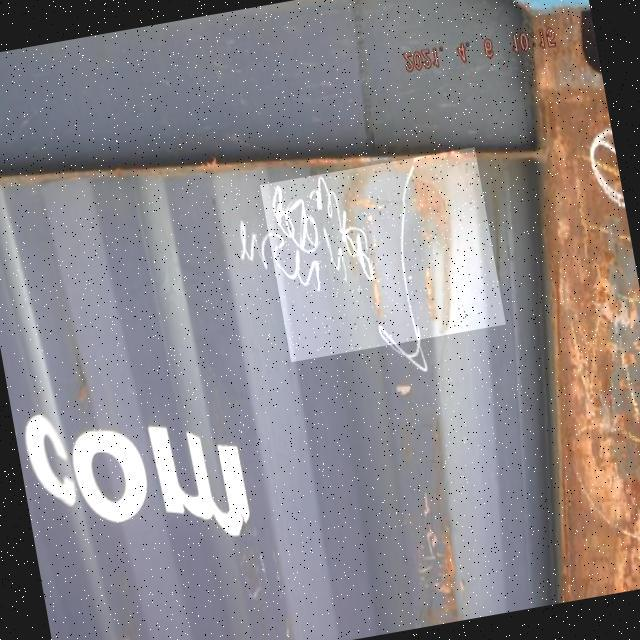Minor-Dent: (260, 147, 506, 362)
